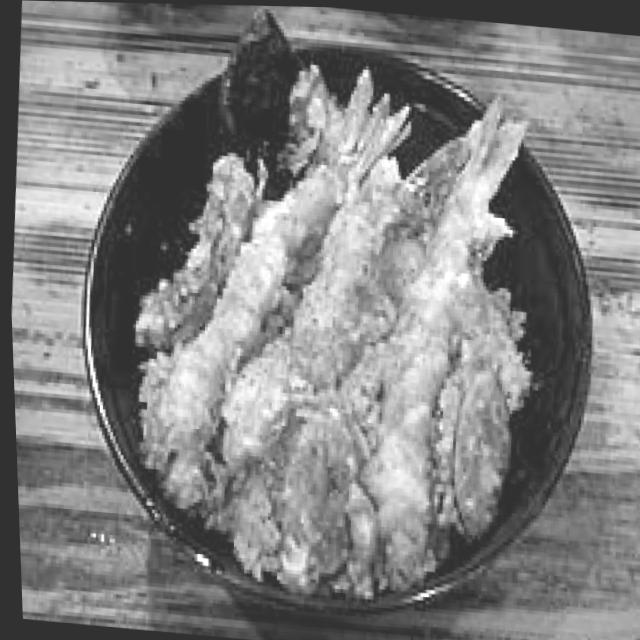熟制海鲜: (46, 1, 625, 640)
